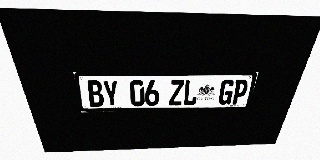0: (129, 80, 145, 106)
6: (145, 80, 159, 106)
B: (86, 80, 105, 107)
G: (217, 79, 236, 105)
L: (183, 80, 199, 105)
P: (231, 79, 250, 104)
Y: (102, 80, 119, 107)
Z: (169, 80, 184, 106)
